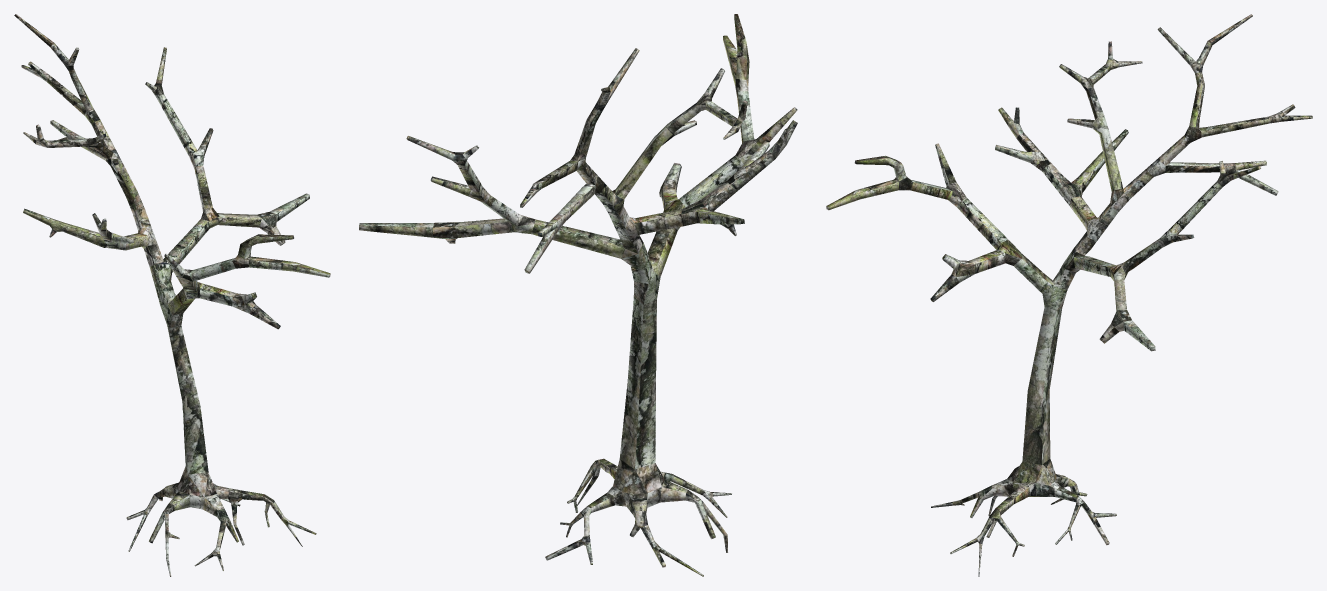
The model's file is Tree-nacked.fbx.
3 views of the same model, side by side, from view 1: azimuth 30°, elevation 25°; view 2: azimuth 150°, elevation 25°; view 3: azimuth 270°, elevation 25° (orthographic). The views are drawn at different scales.
Visible parts, largest first — view 1: Tree; view 2: Tree; view 3: Tree.
Part boxes in pixels (x1,y1,x2,y2): Tree: (14, 14, 330, 576); Tree: (359, 14, 797, 576); Tree: (826, 14, 1312, 576).
Bounding box in the file's own units: 386 × 585 × 528.
